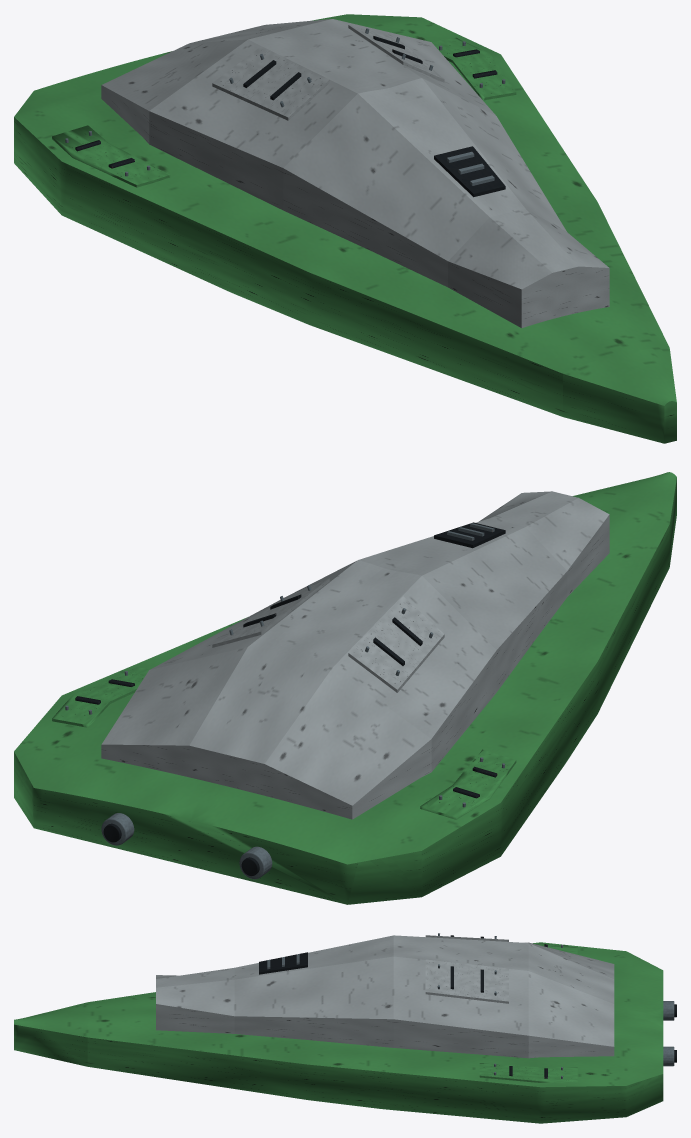
3 views of the same model, one above another, from view 1: azimuth 30°, elevation 25°; view 2: azimuth 150°, elevation 25°; view 3: azimuth 270°, elevation 25° (orthographic). The views are drawn at different scales.
Parts seen in each view (by area): view 1: PrimaryHullAndArmour, ServiceAssemblies, RecessedMachinery, TrimAndFasteners; view 2: PrimaryHullAndArmour, ServiceAssemblies, RecessedMachinery, TrimAndFasteners; view 3: PrimaryHullAndArmour, ServiceAssemblies, RecessedMachinery.
Boxes of the visible parts, box(x1,y1,x2,y2) form: PrimaryHullAndArmour: box(14, 14, 676, 443); ServiceAssemblies: box(52, 25, 516, 187); RecessedMachinery: box(75, 36, 505, 197); TrimAndFasteners: box(65, 28, 505, 185); PrimaryHullAndArmour: box(14, 472, 676, 904); ServiceAssemblies: box(52, 578, 516, 879); RecessedMachinery: box(75, 522, 505, 875); TrimAndFasteners: box(65, 523, 505, 807); PrimaryHullAndArmour: box(14, 935, 663, 1123); ServiceAssemblies: box(425, 935, 674, 1082); RecessedMachinery: box(259, 935, 676, 1078).
Size of the model in its own units: 1.4 by 0.4846 by 2.71.
1 material, 1 textured.
